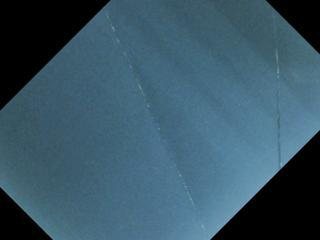crack: (101, 7, 211, 239), (266, 3, 290, 172)
